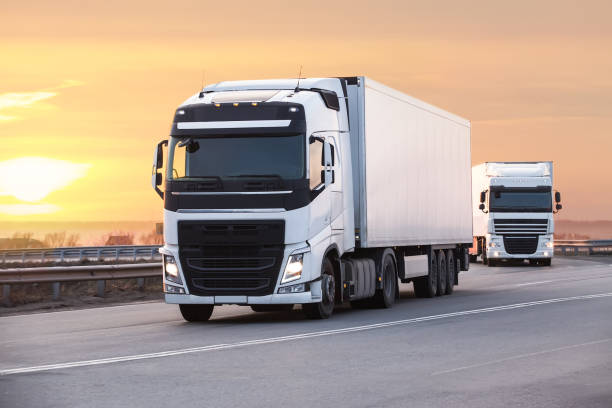Truck: (143, 62, 476, 327)
